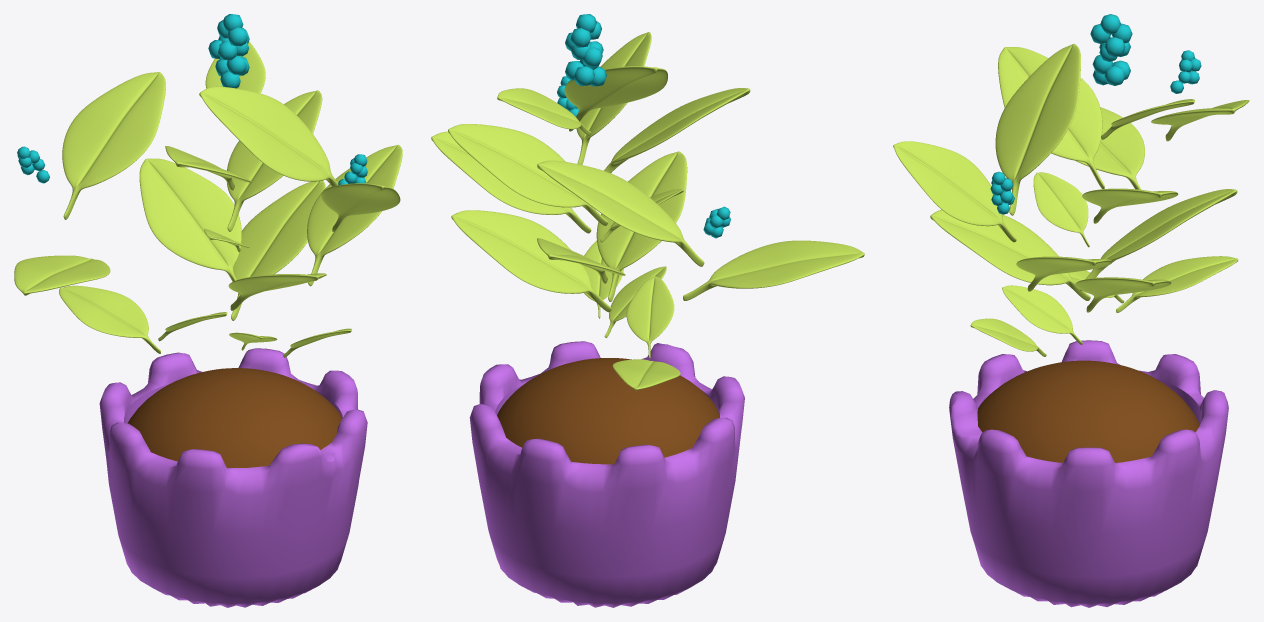
File: Verano3.fbx
The picture shows the model from 3 angles, left to right: view 1: azimuth 30°, elevation 25°; view 2: azimuth 150°, elevation 25°; view 3: azimuth 270°, elevation 25°; orthographic projection. The views are drawn at different scales.
Visible parts, largest first — view 1: Circle.033; view 2: Circle.033; view 3: Circle.033.
Boxes of the visible parts, <box> form: Circle.033: <box>14,14,402,607</box>; Circle.033: <box>431,14,864,607</box>; Circle.033: <box>893,14,1249,607</box>.
Bounding box in the file's own units: 60.02 × 79.54 × 45.26.
